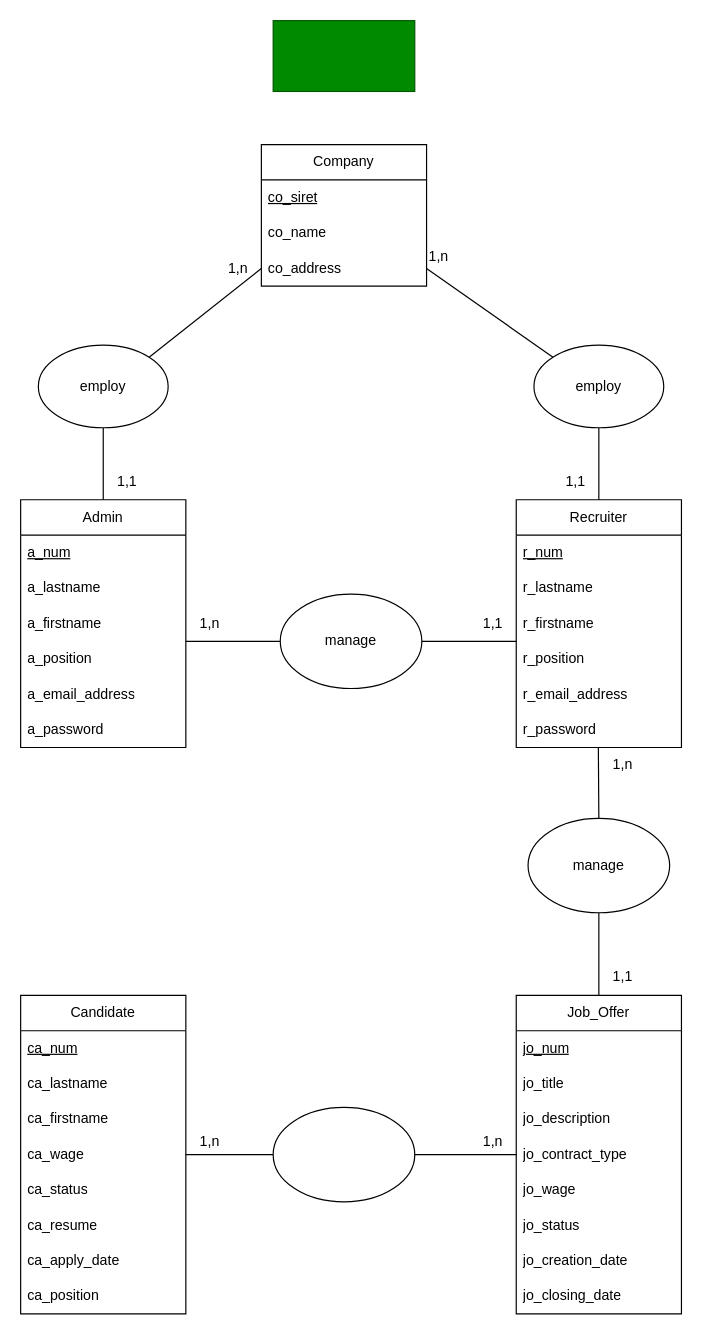
Some shapes in this 702 by 1335 pixel diagram are drawn without their labels. The shapes that lost their labels are listed below. From the top down, each one's centre as x and y in pixels, then its label:
At (343,55): "MCD".
At (343,1154): "receive".
